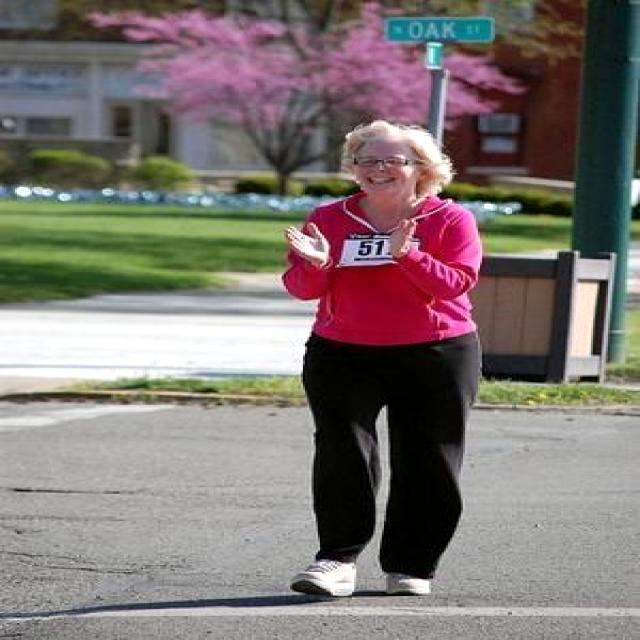no_head_wear: (343, 120, 452, 191)
person: (284, 120, 480, 595)
